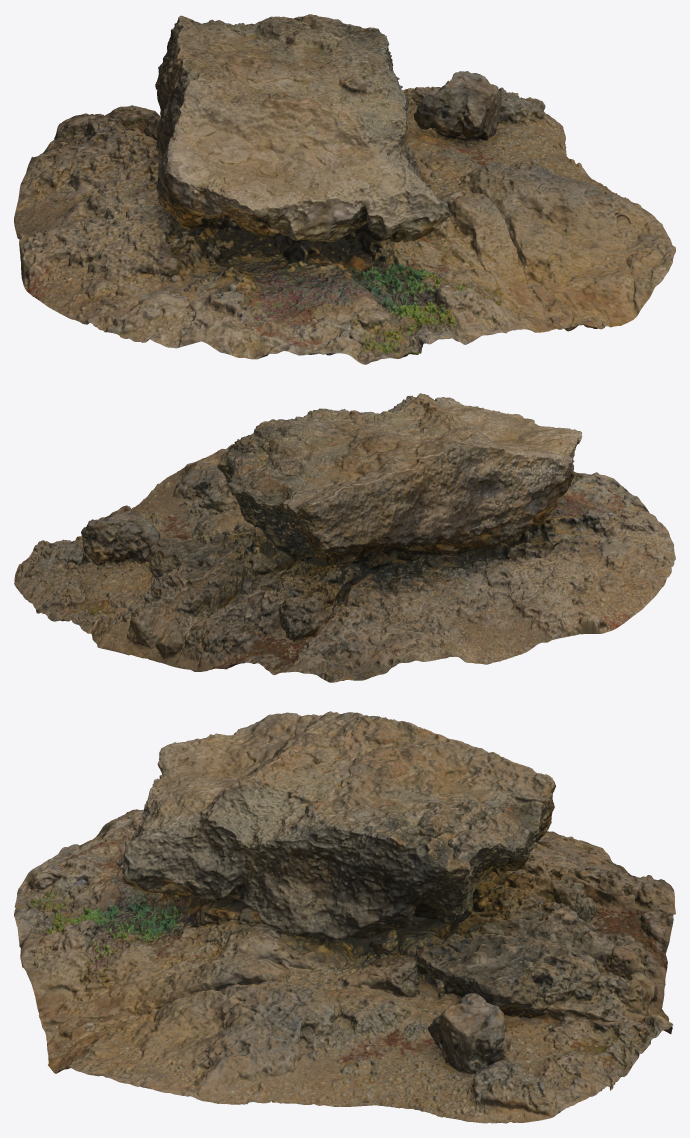
File: coast_rocks_05_1k.gltf
The picture shows the model from 3 angles, top to bottom: view 1: azimuth 30°, elevation 25°; view 2: azimuth 150°, elevation 25°; view 3: azimuth 270°, elevation 25°; orthographic projection. The views are drawn at different scales.
Parts seen in each view (by area): view 1: coast_rocks_05; view 2: coast_rocks_05; view 3: coast_rocks_05.
Boxes of the visible parts, bbox=[...] form: coast_rocks_05: bbox=[14, 14, 675, 364]; coast_rocks_05: bbox=[14, 393, 675, 682]; coast_rocks_05: bbox=[14, 711, 675, 1123].
Size of the model in its own units: 4.04 by 1.33 by 3.75.
Materials: 1 (1 with a texture image).
